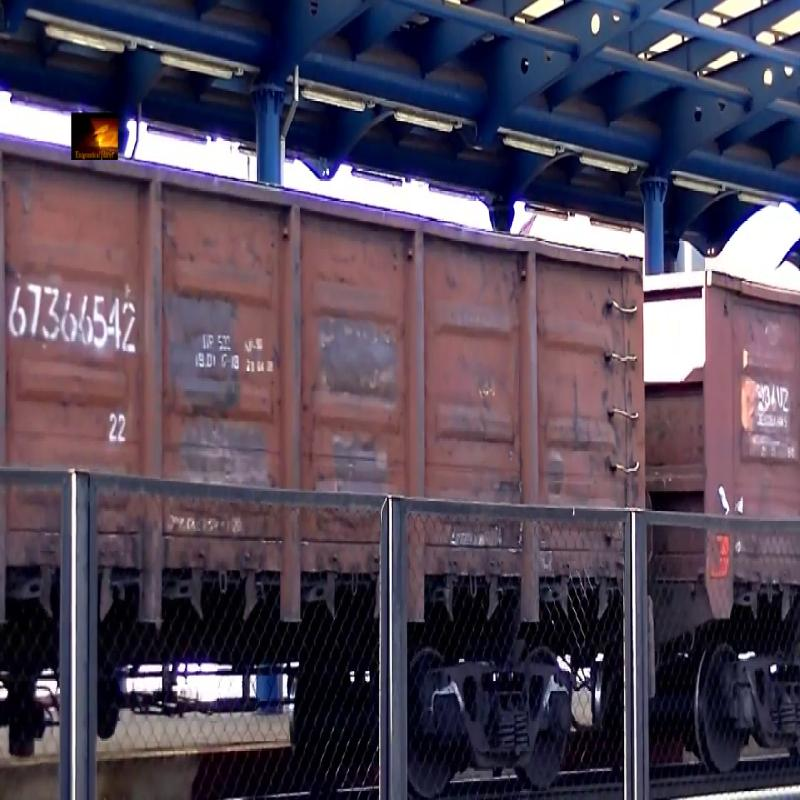train: (2, 46, 673, 766), (710, 46, 800, 765)
